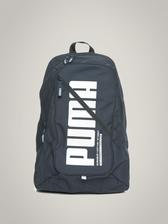bag: (26, 41, 133, 195)
